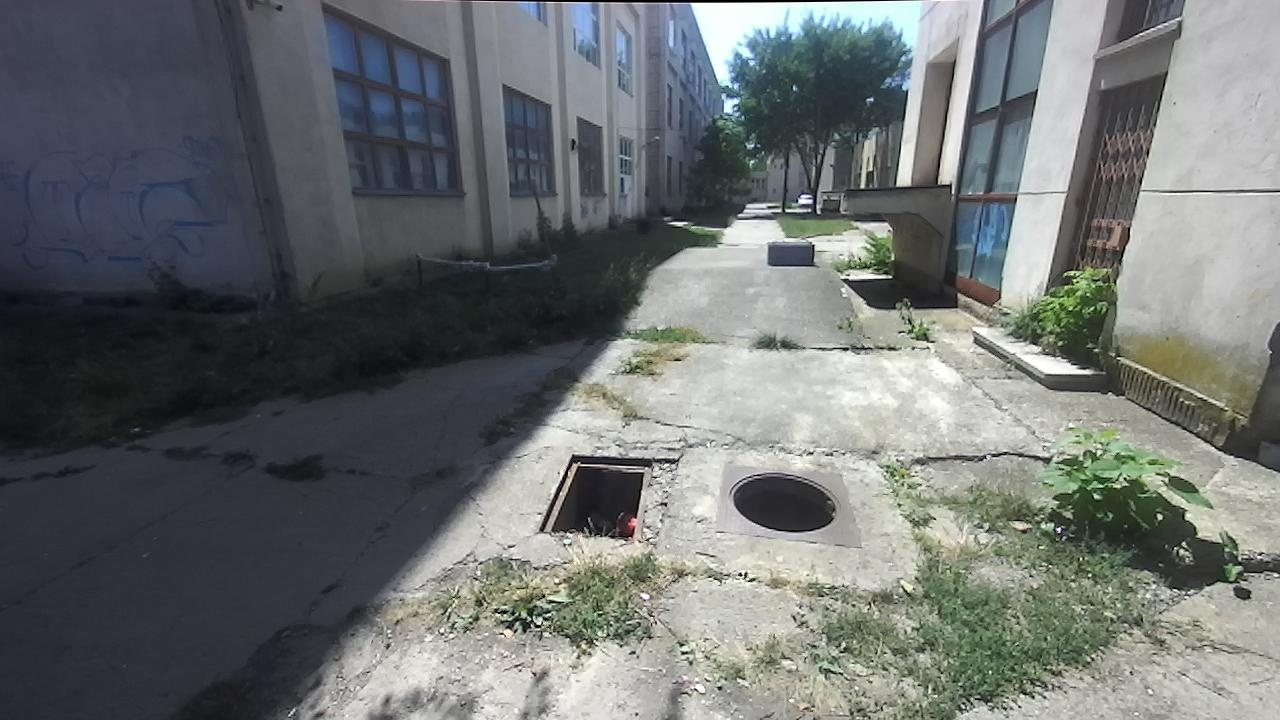drain: (530, 451, 659, 551), (721, 468, 842, 529)
